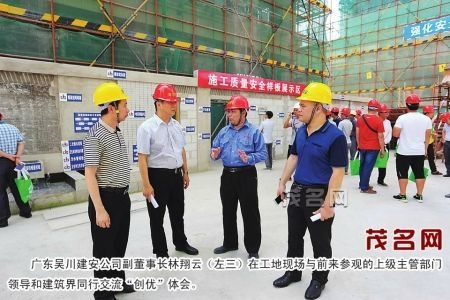red: (150, 80, 181, 122), (224, 93, 249, 126), (403, 93, 421, 116), (366, 97, 380, 116), (376, 102, 389, 119)
yellow: (90, 81, 131, 129), (295, 82, 333, 125)
